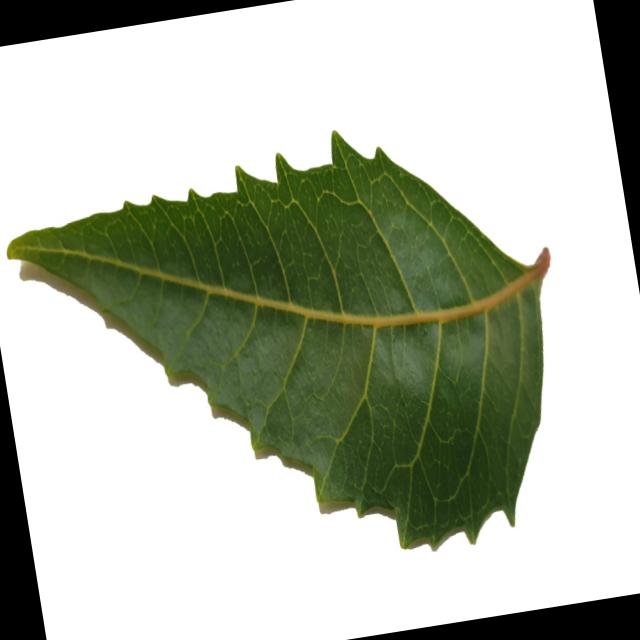Medicinal-Neem: (0, 92, 594, 611)
